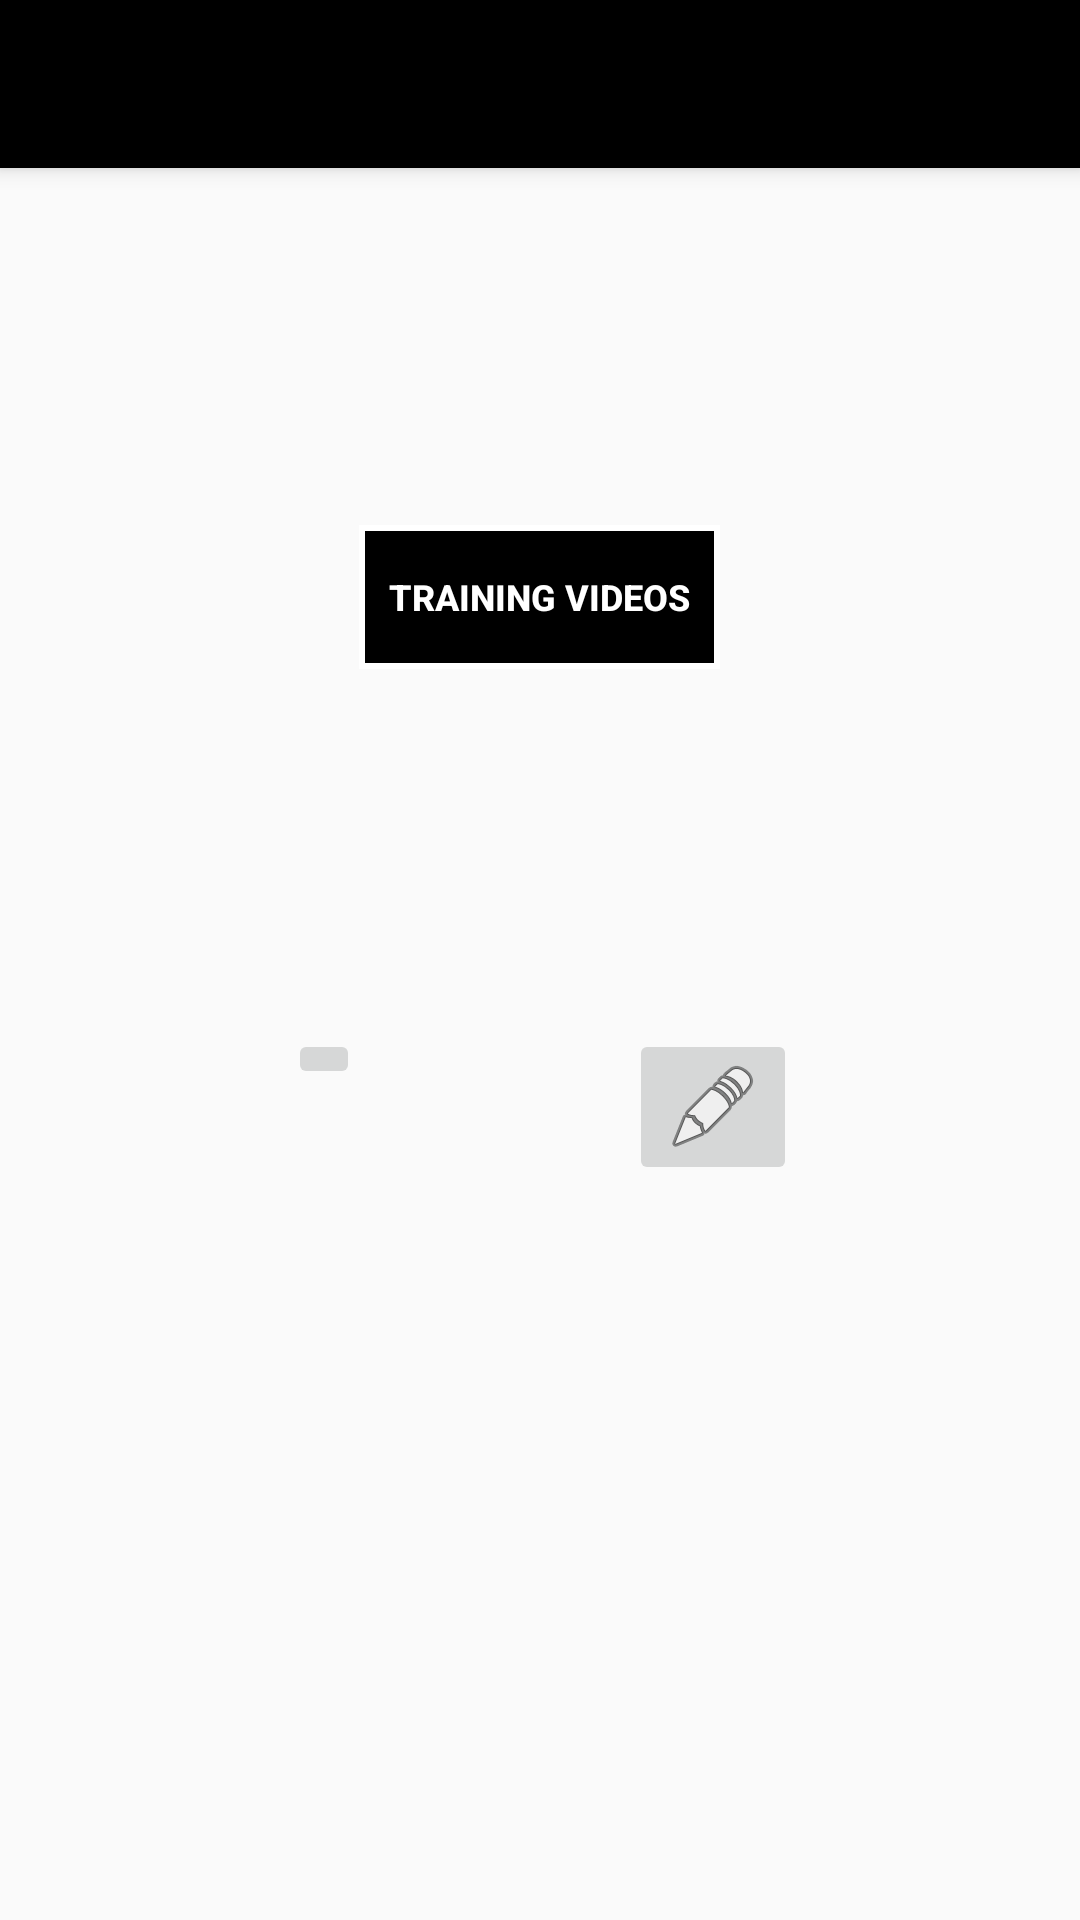

Point at icon controls on the screen. Image size 1080*1920, points as (x=x, y=y).
edit: (x=713, y=1107)
